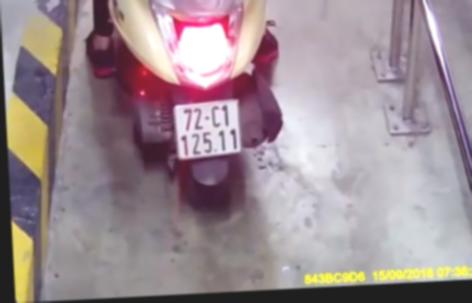License_Plate: (164, 97, 251, 167)
